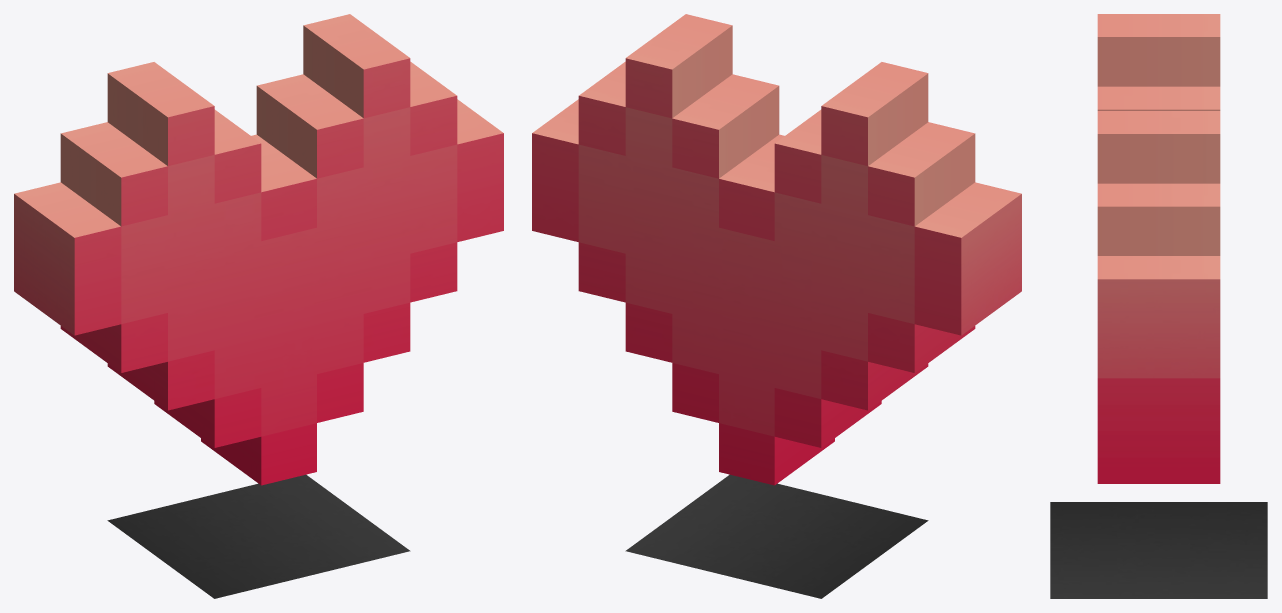
Rendered from heart.glb.
3 views of the same model, side by side, from view 1: azimuth 30°, elevation 25°; view 2: azimuth 150°, elevation 25°; view 3: azimuth 270°, elevation 25° (orthographic).
Parts seen in each view (by area): view 1: heart; view 2: heart; view 3: heart.
Part boxes in pixels (<box>): heart: <box>14,14,503,598</box>; heart: <box>532,14,1021,598</box>; heart: <box>1050,14,1267,598</box>.
Bounding box in the file's own units: 1.3 × 1.36 × 0.5605.
Materials: 1 (1 with a texture image).
